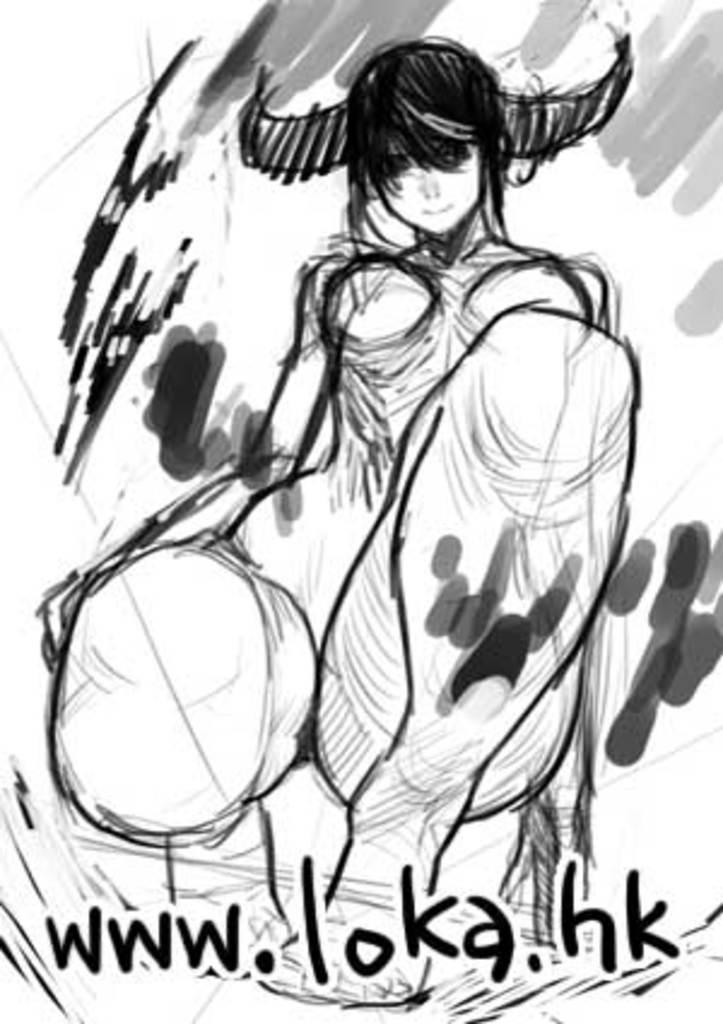face: (387, 108, 478, 256)
